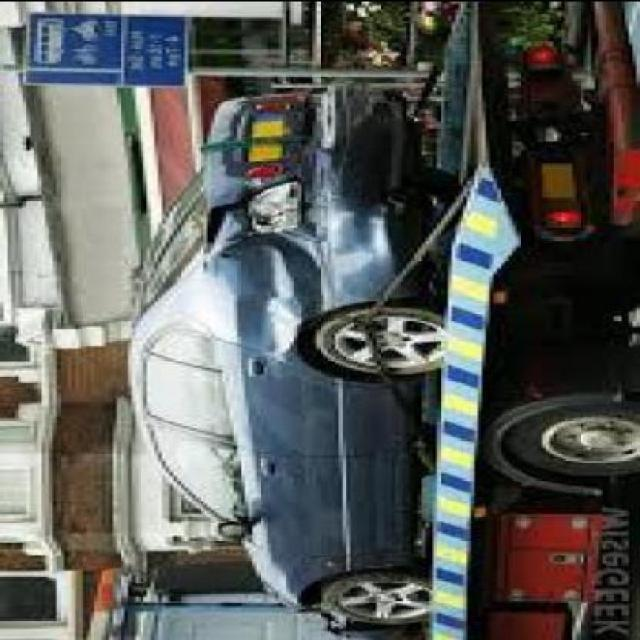damage: (197, 168, 396, 365)
